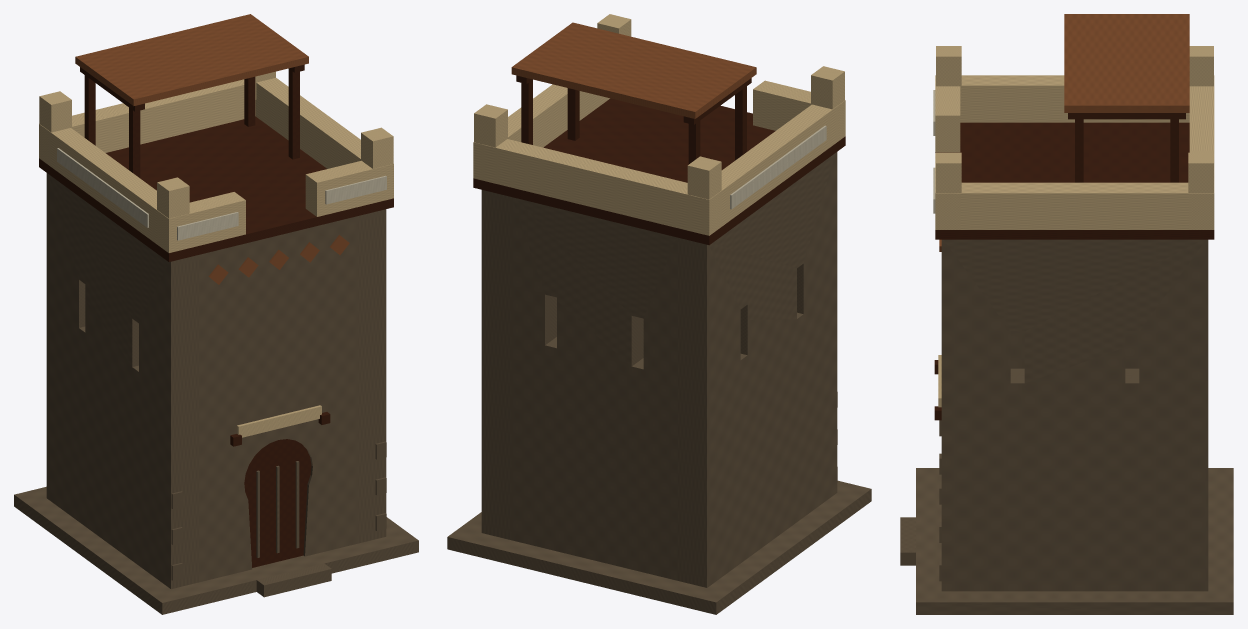
File: Berber_Outpost_Age3_stone.fbx
3 views of the same model, side by side, from view 1: azimuth 30°, elevation 25°; view 2: azimuth 150°, elevation 25°; view 3: azimuth 270°, elevation 25° (orthographic). The views are drawn at different scales.
Parts seen in each view (by area): view 1: fortified_stone_side, fortified_stone_face, lookout_floor, fitted_flat_canopy, tower_foundation, fortified_stone_side.001, lookout_parapet_back, horseshoe_door.001, lookout_parapet_side.001, lookout_parapet_side, lookout_parapet_front.001, lookout_parapet_front (+12 smaller); view 2: fortified_stone_face.001, fortified_stone_side, lookout_floor, fitted_flat_canopy, tower_foundation, lookout_parapet_back, fortified_stone_side.001, lookout_parapet_side, lookout_parapet_side.001, lookout_parapet_front, neutral_owner_side_band, corner_merlon.001 (+5 smaller); view 3: fortified_stone_side.001, lookout_floor, tower_foundation, fitted_flat_canopy, lookout_parapet_side.001, lookout_parapet_side, lookout_parapet_back, lookout_parapet_front, fortified_stone_side, corner_merlon, corner_merlon.002, corner_merlon.003 (+6 smaller).
Part boxes in pixels (x1,y1,x2,y2): fortified_stone_side: [46, 173, 198, 589]; fortified_stone_face: [198, 216, 358, 582]; lookout_floor: [39, 116, 393, 261]; fitted_flat_canopy: [75, 14, 308, 105]; tower_foundation: [14, 486, 418, 614]; fortified_stone_side.001: [357, 209, 386, 543]; lookout_parapet_back: [39, 79, 255, 165]; horseshoe_door.001: [244, 439, 311, 567]; lookout_parapet_side.001: [255, 78, 360, 168]; lookout_parapet_side: [50, 128, 162, 244]; lookout_parapet_front.001: [305, 160, 393, 216]; lookout_parapet_front: [157, 192, 245, 252]; fortified_stone_face.001: [510, 197, 677, 580]; fortified_stone_side: [677, 152, 837, 587]; lookout_floor: [473, 98, 845, 245]; fitted_flat_canopy: [511, 22, 756, 118]; tower_foundation: [447, 480, 871, 614]; lookout_parapet_back: [473, 139, 721, 235]; fortified_stone_side.001: [481, 190, 510, 539]; lookout_parapet_side: [715, 104, 839, 226]; lookout_parapet_side.001: [508, 84, 609, 147]; lookout_parapet_front: [753, 80, 845, 139]; neutral_owner_side_band: [730, 125, 826, 209]; corner_merlon.001: [687, 156, 721, 199]; fortified_stone_side.001: [941, 239, 1208, 591]; lookout_floor: [935, 122, 1214, 239]; tower_foundation: [916, 468, 1233, 614]; fitted_flat_canopy: [1064, 14, 1189, 112]; lookout_parapet_side.001: [948, 182, 1201, 229]; lookout_parapet_side: [960, 75, 1189, 122]; lookout_parapet_back: [1189, 75, 1214, 229]; lookout_parapet_front: [935, 75, 960, 152]; fortified_stone_side: [1010, 331, 1139, 368]; corner_merlon: [936, 46, 961, 104]; corner_merlon.002: [936, 152, 961, 192]; corner_merlon.003: [1188, 152, 1213, 192].
Size of the model in its own units: 360 by 610 by 378.
Materials: 5 (5 with a texture image).
